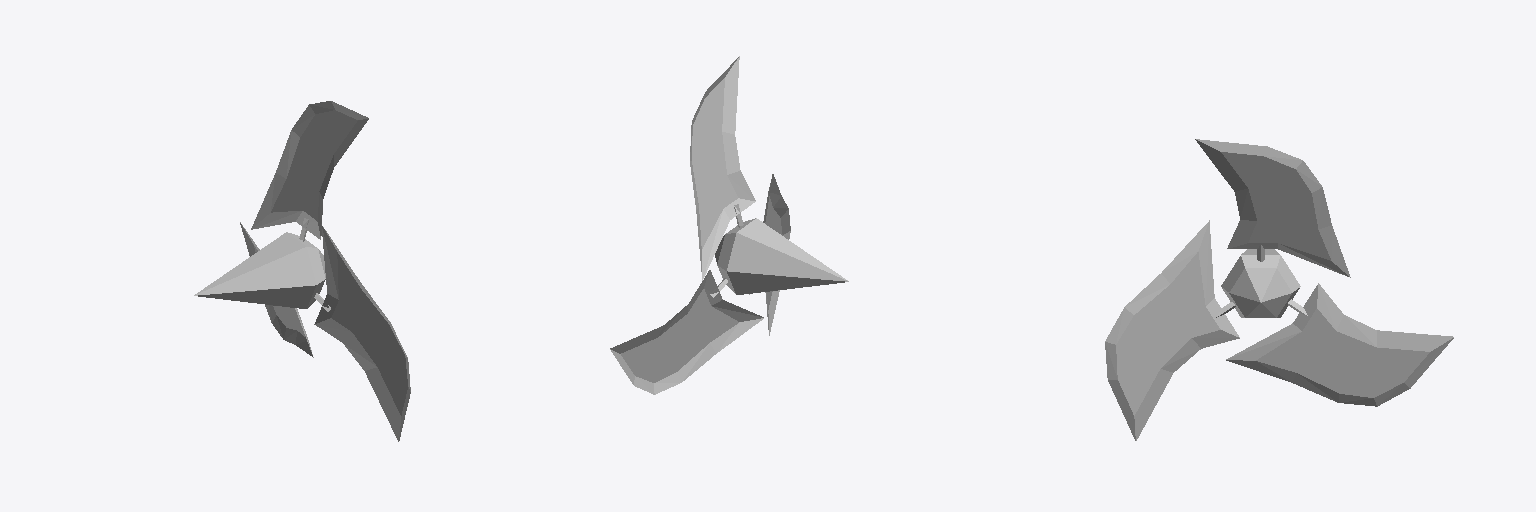
The model's file is stg400_MotFan_g4_07.obj.
The picture shows the model from 3 angles: view 1: azimuth 30°, elevation 25°; view 2: azimuth 150°, elevation 25°; view 3: azimuth 270°, elevation 25°; orthographic projection.
Visible parts, largest first — view 1: polygon1, polygon0; view 2: polygon1, polygon0; view 3: polygon1, polygon0.
Part boxes in pixels (bbox=[...]): polygon1: bbox=[240, 101, 410, 441]; polygon0: bbox=[194, 232, 325, 308]; polygon1: bbox=[610, 56, 790, 394]; polygon0: bbox=[715, 218, 848, 294]; polygon1: bbox=[1105, 139, 1453, 440]; polygon0: bbox=[1221, 249, 1300, 317].
Bounding box in the file's own units: 15.62 × 31.24 × 32.69.